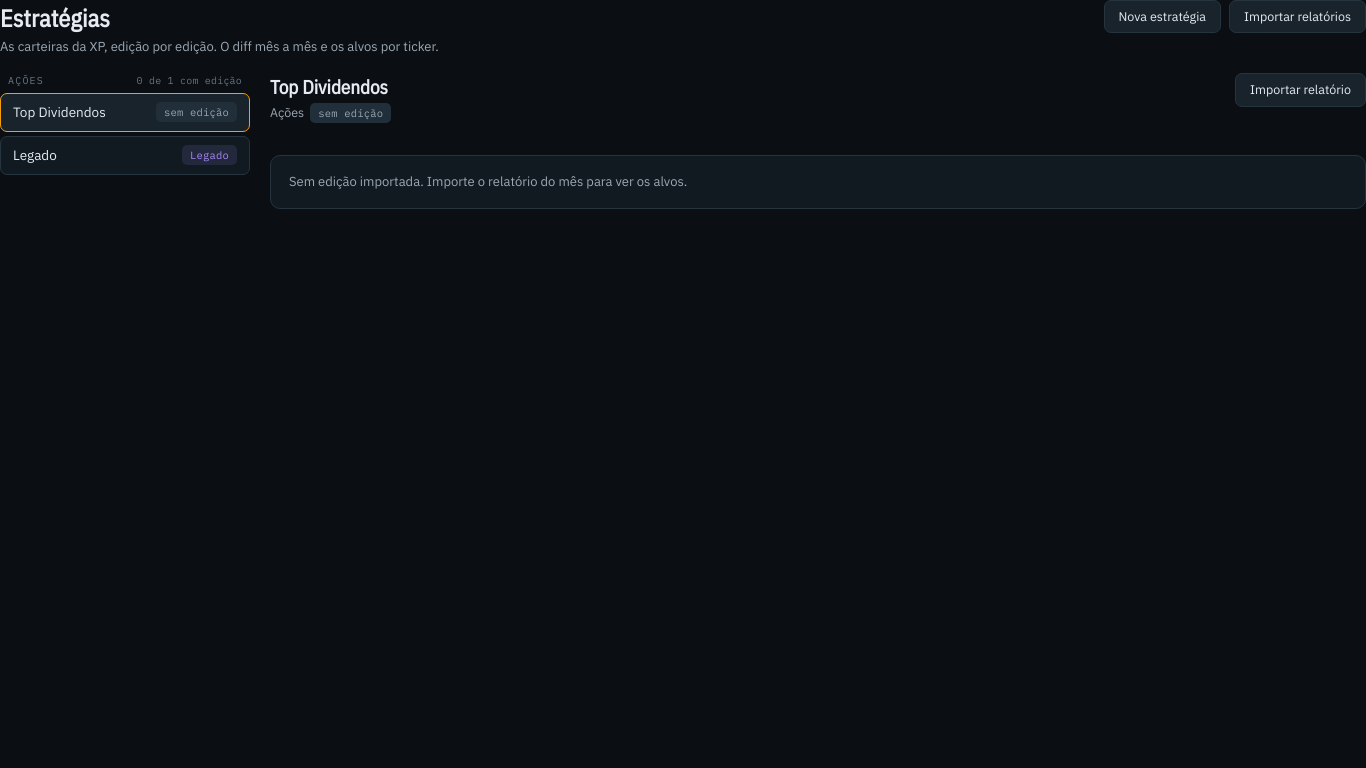
Scenario: the create modal › disables Manual for a class that already has a bucket
Click the button "Nova estratégia" at (1162, 17), box [1104,0,1221,33]
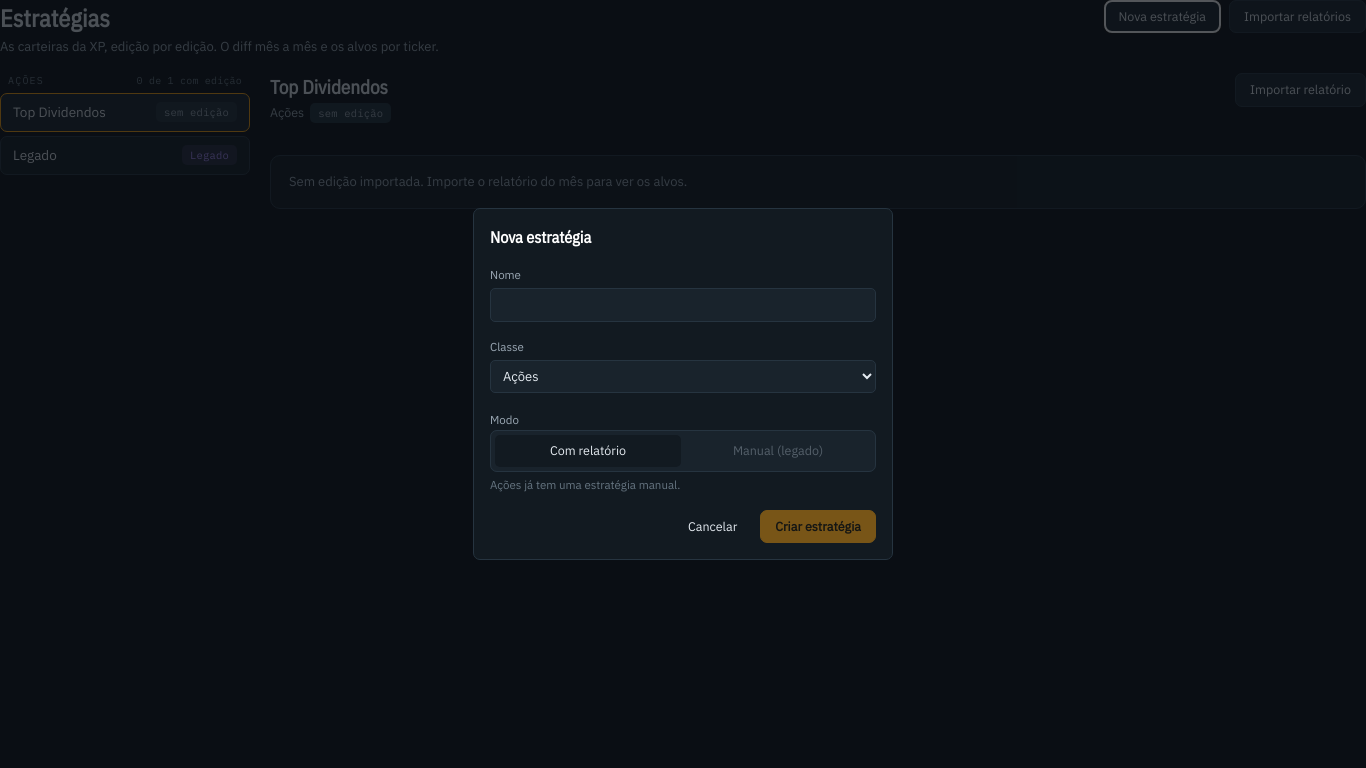
Result: the dialog "Nova estratégia" is shown
Result: the radio button labelled "Manual (legado)" is disabled at [733,442,823,458]
Result: the text "Ações já tem uma estratégia manual." is shown at [490,477,680,492]
Select "Fundos imob." in the dropdown labelled "Classe" at (683, 376), box [490,360,876,393]
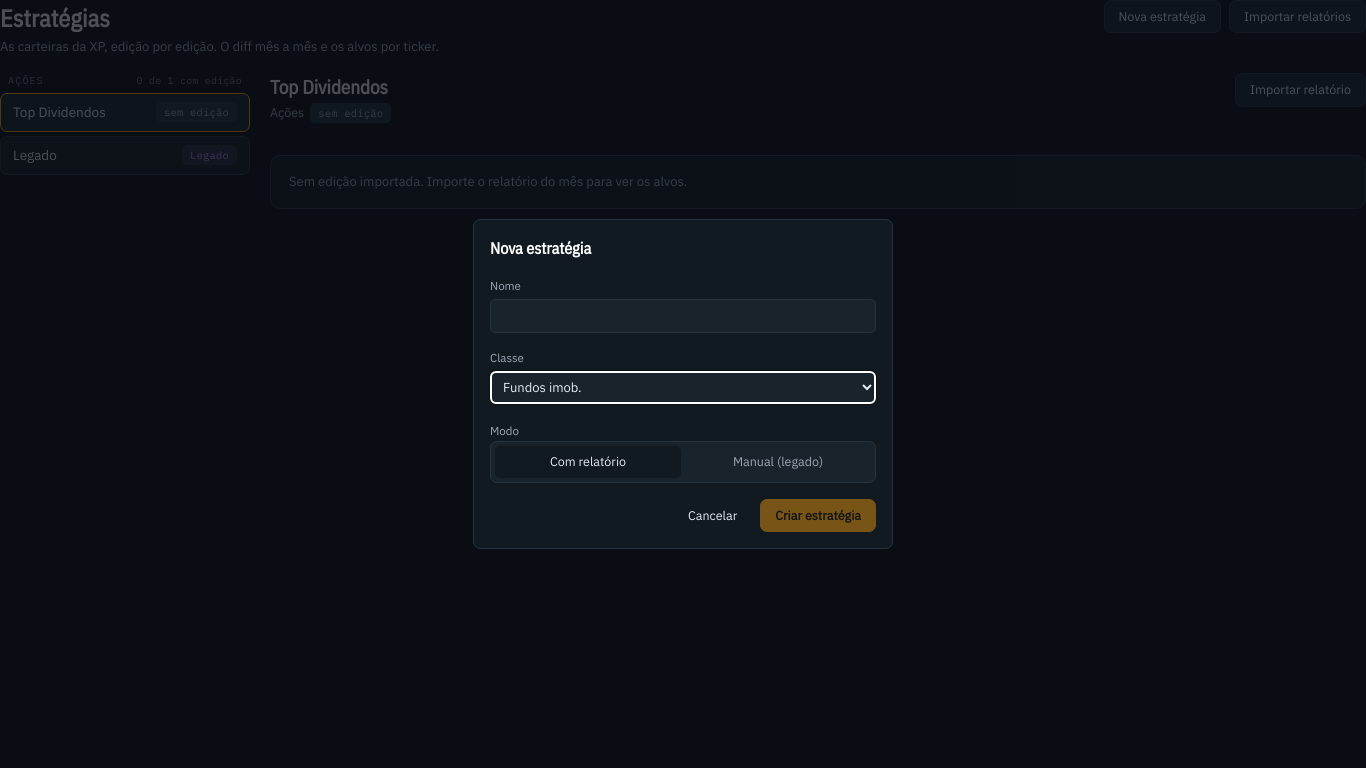
Result: the radio button labelled "Manual (legado)" is enabled at [733,453,823,469]
